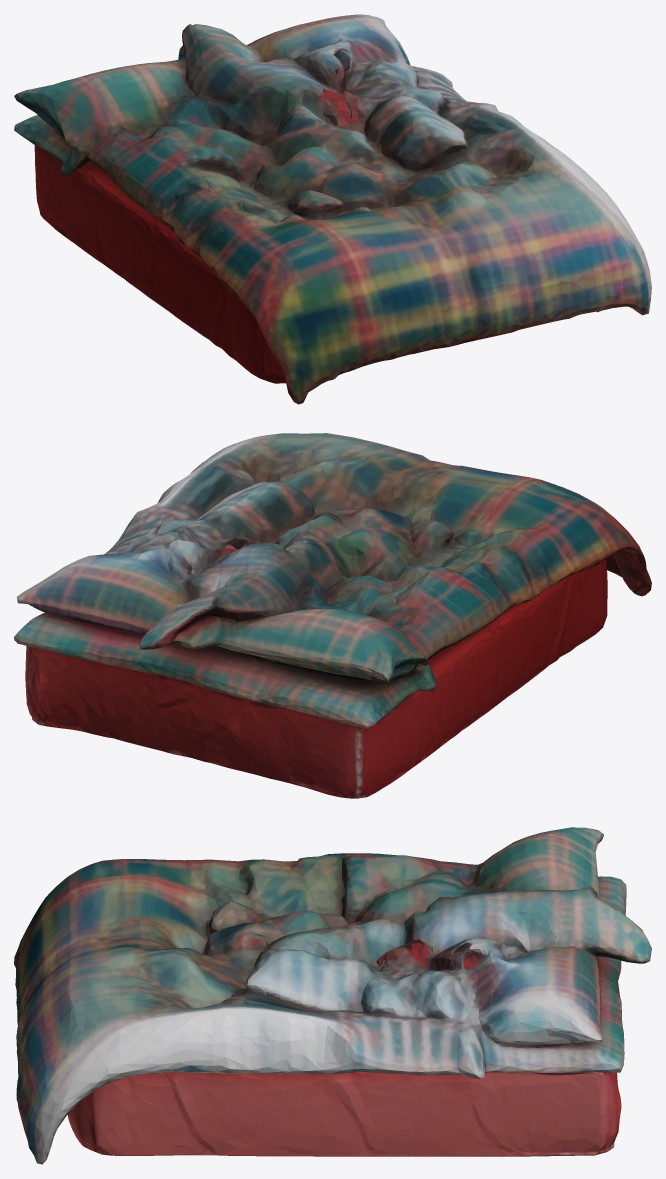
Rendered from ast_22cf0d15bedd.glb.
3 views of the same model, one above another, from view 1: azimuth 30°, elevation 25°; view 2: azimuth 150°, elevation 25°; view 3: azimuth 270°, elevation 25° (orthographic). The views are drawn at different scales.
Parts seen in each view (by area): view 1: geometry_0; view 2: geometry_0; view 3: geometry_0.
Part boxes in pixels (box(x1,y1,x2,y2)): geometry_0: box(14, 14, 651, 404); geometry_0: box(14, 433, 651, 798); geometry_0: box(14, 827, 651, 1164).
Bounding box in the file's own units: 0.5896 × 0.2322 × 0.782.
Materials: 1 (1 with a texture image).
